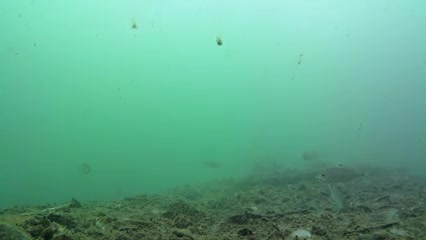smallfish: (314, 163, 368, 188)
